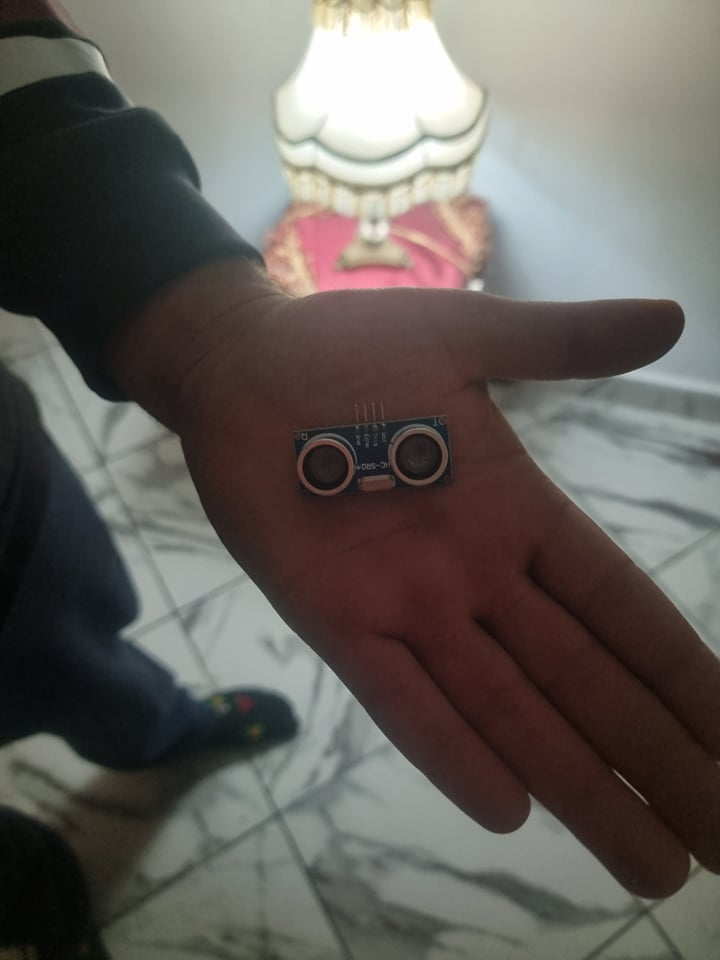SENSOR: (287, 415, 459, 502)
